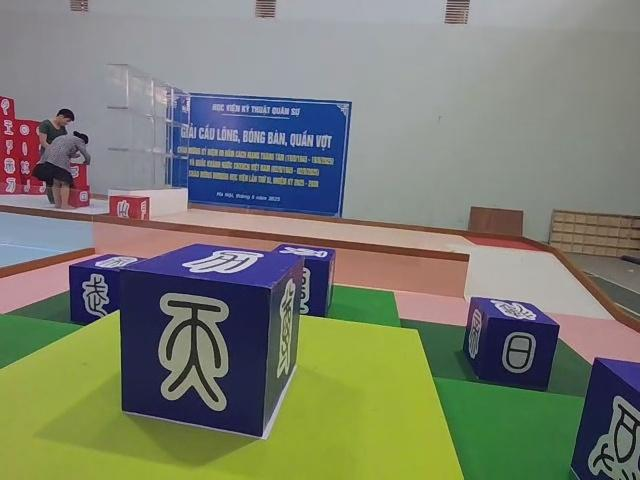R2 Fake Blue: (118, 244, 305, 438), (462, 297, 558, 392), (69, 254, 151, 327)
R2 Real Blue: (568, 359, 640, 478)
